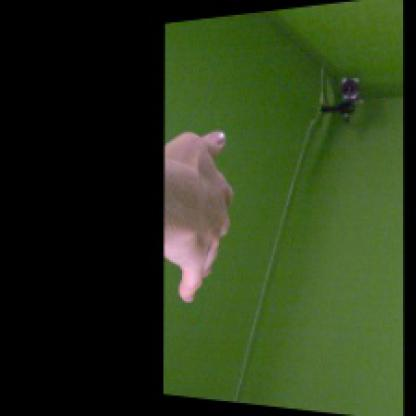Hand: (164, 130, 233, 301)
